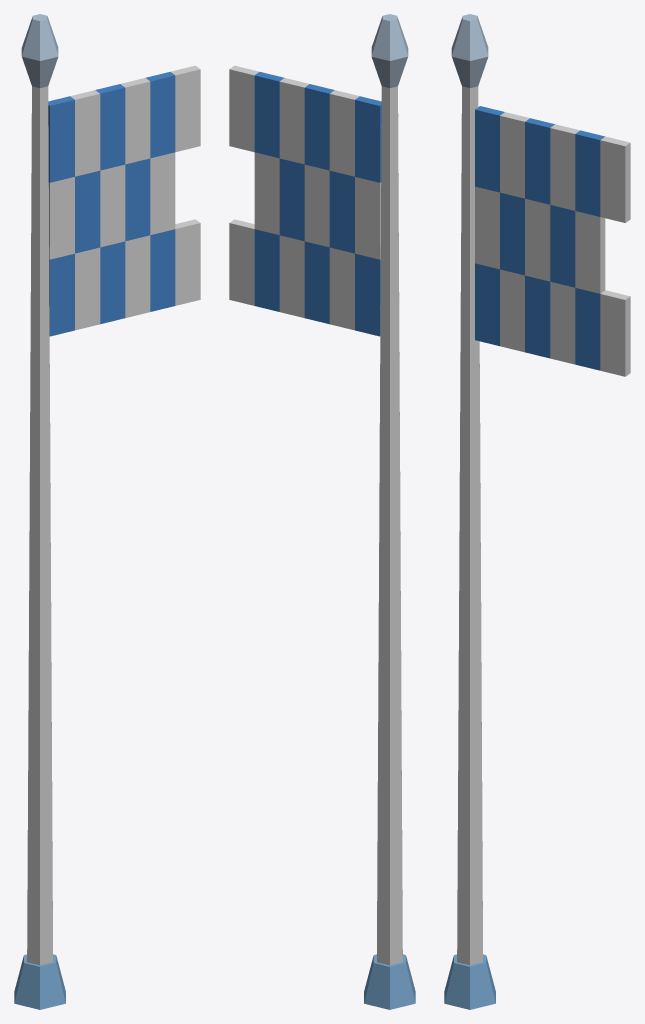
File: flag.glb
3 renders of one model, left to right at view 1: azimuth 30°, elevation 25°; view 2: azimuth 150°, elevation 25°; view 3: azimuth 330°, elevation 25°, orthographic.
Visible parts, largest first — view 1: snowPeak-flag; view 2: snowPeak-flag; view 3: snowPeak-flag.
Part boxes in pixels (<box>): snowPeak-flag: <box>14,14,200,1009</box>; snowPeak-flag: <box>229,14,415,1009</box>; snowPeak-flag: <box>444,14,630,1009</box>.
Bounding box in the file's own units: 0.25 × 1.27 × 0.0606.
